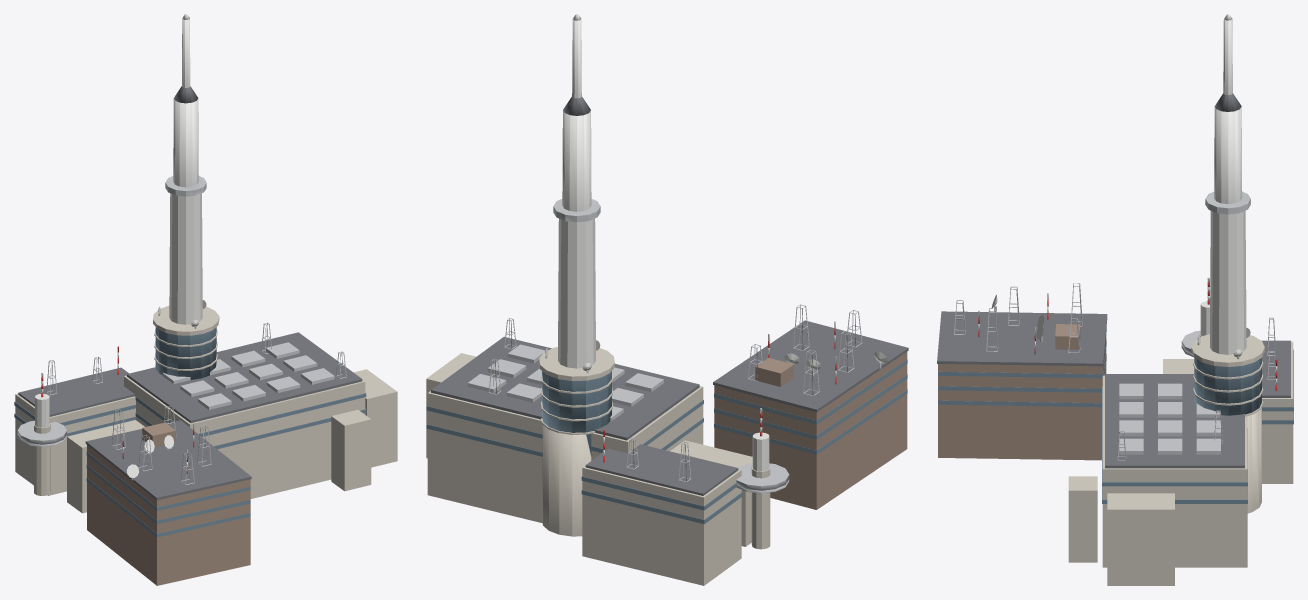
Rendered from obj-aile_ouest_v001.glb.
The picture shows the model from 3 angles, left to right: view 1: azimuth 30°, elevation 25°; view 2: azimuth 150°, elevation 25°; view 3: azimuth 270°, elevation 25°; orthographic projection. The views are drawn at different scales.
Parts seen in each view (by area): view 1: Aile_ouest; view 2: Aile_ouest; view 3: Aile_ouest.
Boxes of the visible parts, left/top/right/bottom form: Aile_ouest: left=14, top=14, right=397, bottom=585; Aile_ouest: left=426, top=14, right=908, bottom=585; Aile_ouest: left=937, top=14, right=1293, bottom=585.
Size of the model in its own units: 86.6 by 111 by 73.85.
